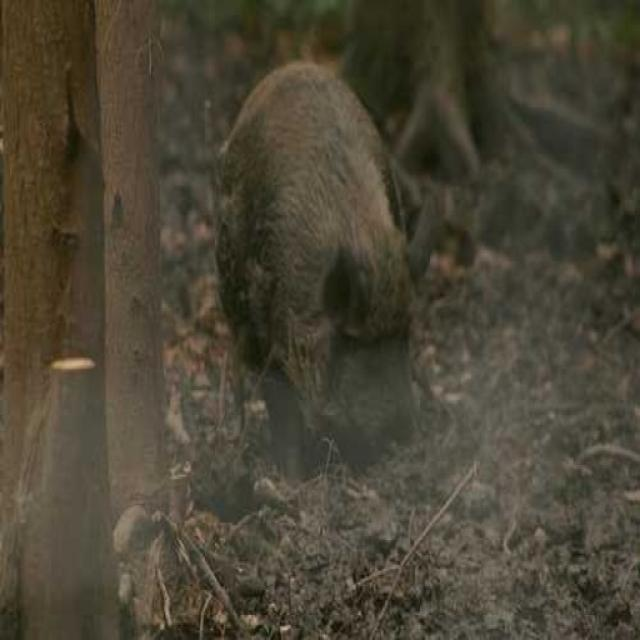pig: (199, 47, 444, 512)
